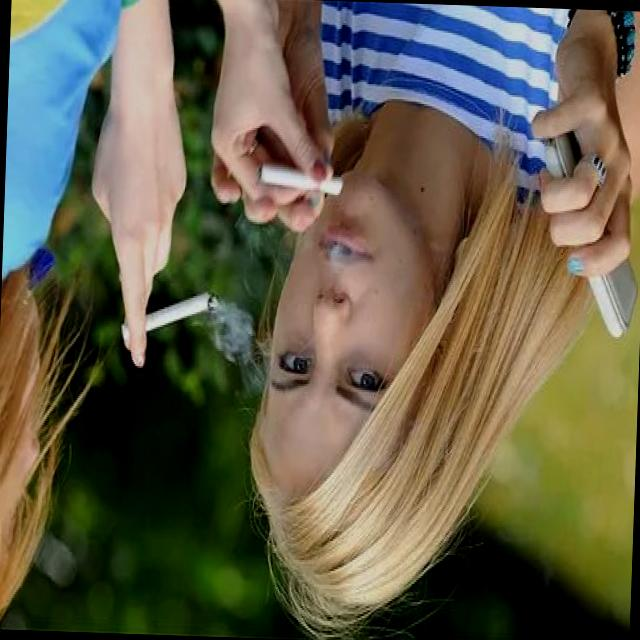cigarette: (119, 284, 221, 348), (246, 146, 344, 198)
